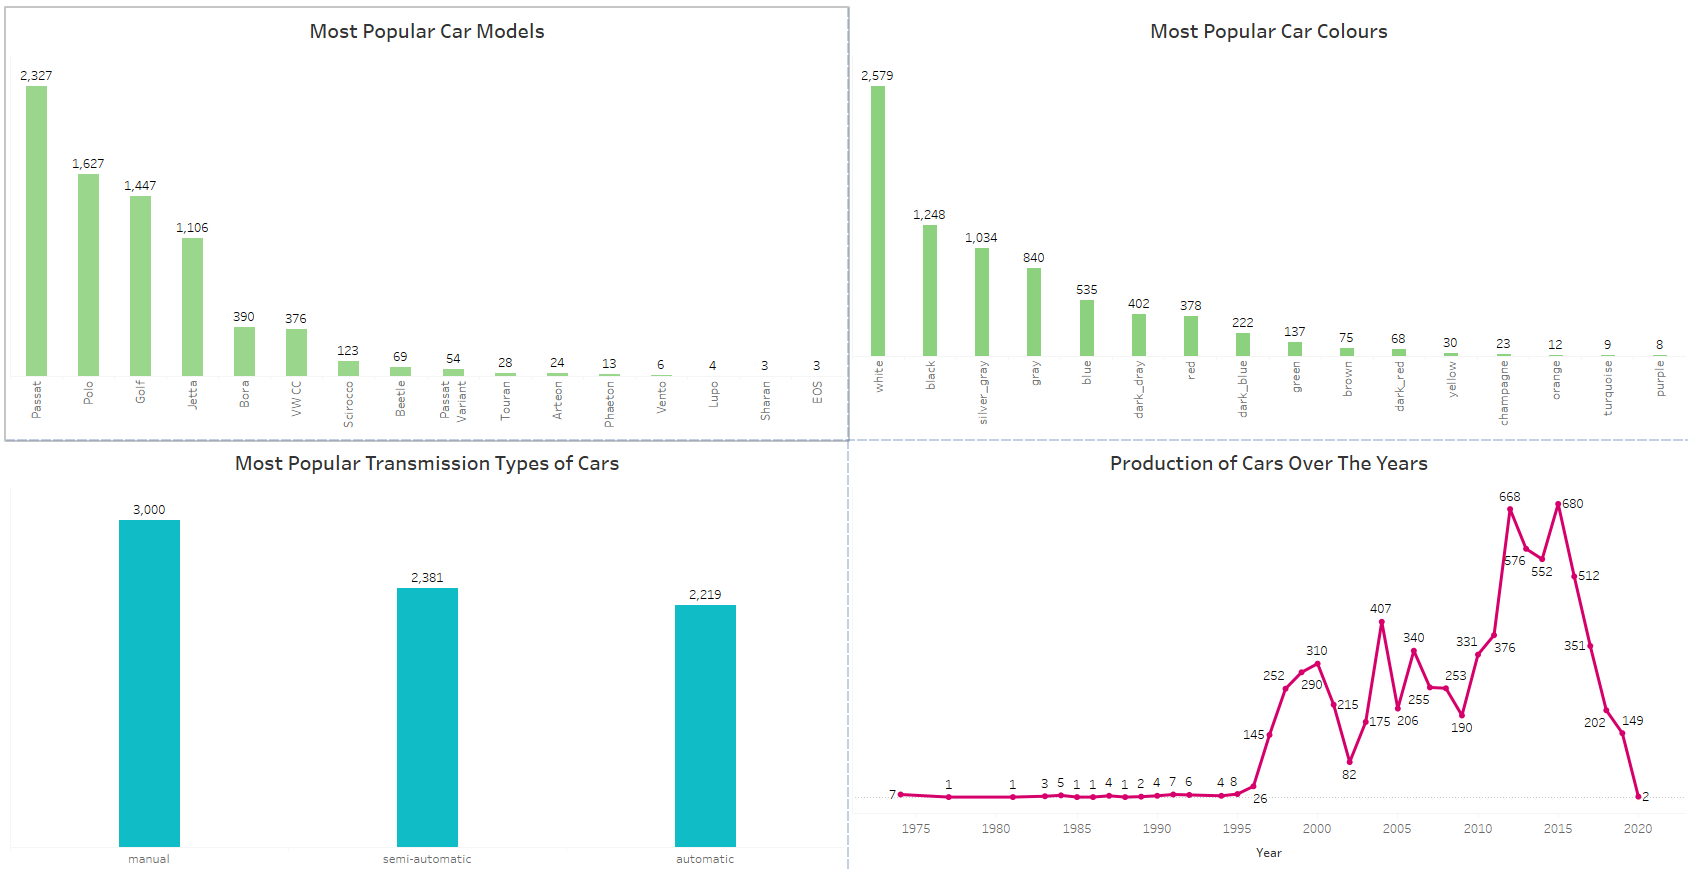

Layout of this report page (visuals, bound fields, positions):
{"tool":"tableau","page":{"name":"Dashboard 4","canvas":[1700,880],"ordinal":3},"visuals":[{"type":"worksheet","title":"Most Popular Car Models","mark":"Automatic","rows":["online_car-sales.csv_74739E8E8975451BBF484375807F37F0"],"cols":["model"],"box":[8,8,842,432]},{"type":"worksheet","title":"Most Popular Car Colours","mark":"Automatic","rows":["online_car-sales.csv_74739E8E8975451BBF484375807F37F0"],"cols":["color"],"box":[850,8,842,432]},{"type":"worksheet","title":"Most Popular Transmission Types of Cars","mark":"Automatic","rows":["online_car-sales.csv_74739E8E8975451BBF484375807F37F0"],"cols":["transmission"],"box":[8,440,842,432]},{"type":"worksheet","title":"Most Popular Car Production Years","mark":"Automatic","rows":["online_car-sales.csv_74739E8E8975451BBF484375807F37F0"],"cols":["year"],"box":[850,440,842,432]}]}

Visuals, with their boxes in screenshot pixels (x1, y1, x2, y2), scaled from the page's 1700x880 canvas onto the 1688x872 screenshot:
"Most Popular Car Models" worksheet: locate(8, 8, 844, 436)
"Most Popular Car Colours" worksheet: locate(844, 8, 1680, 436)
"Most Popular Transmission Types of Cars" worksheet: locate(8, 436, 844, 864)
"Most Popular Car Production Years" worksheet: locate(844, 436, 1680, 864)
